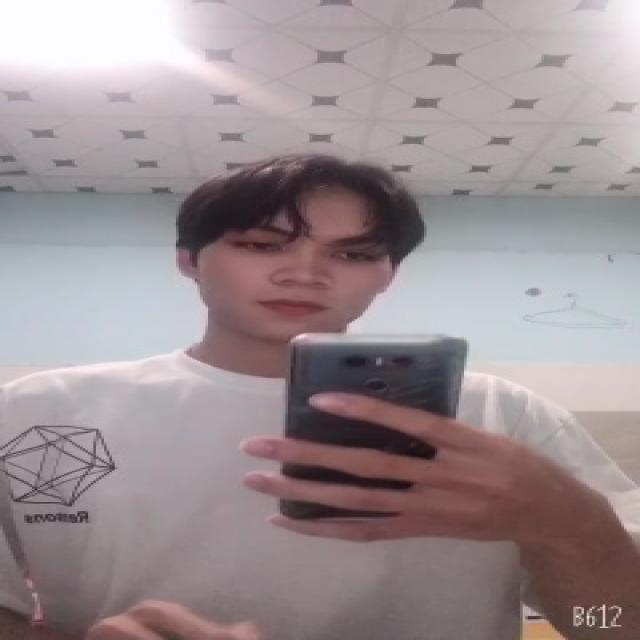Phone: (274, 332, 471, 520)
